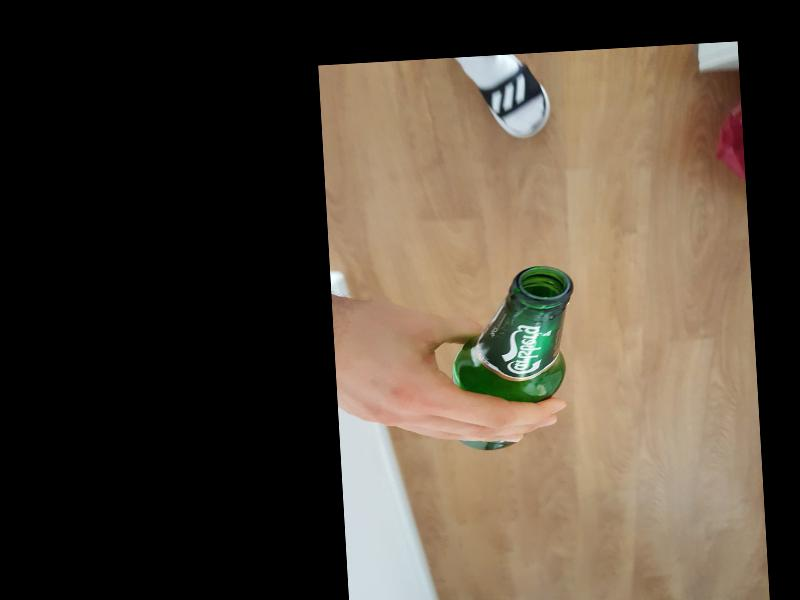Beer: (447, 264, 584, 451)
